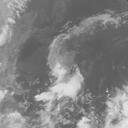cyclone: (41, 10, 119, 105)
